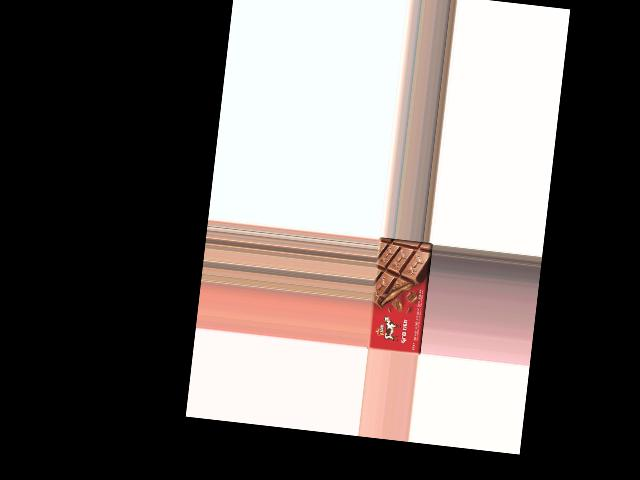chocolate: (366, 238, 432, 355)
